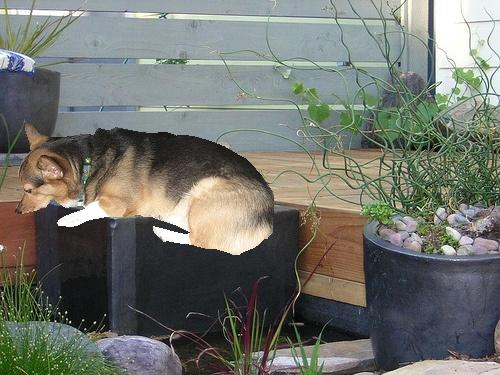tampered: (16, 120, 274, 255)
